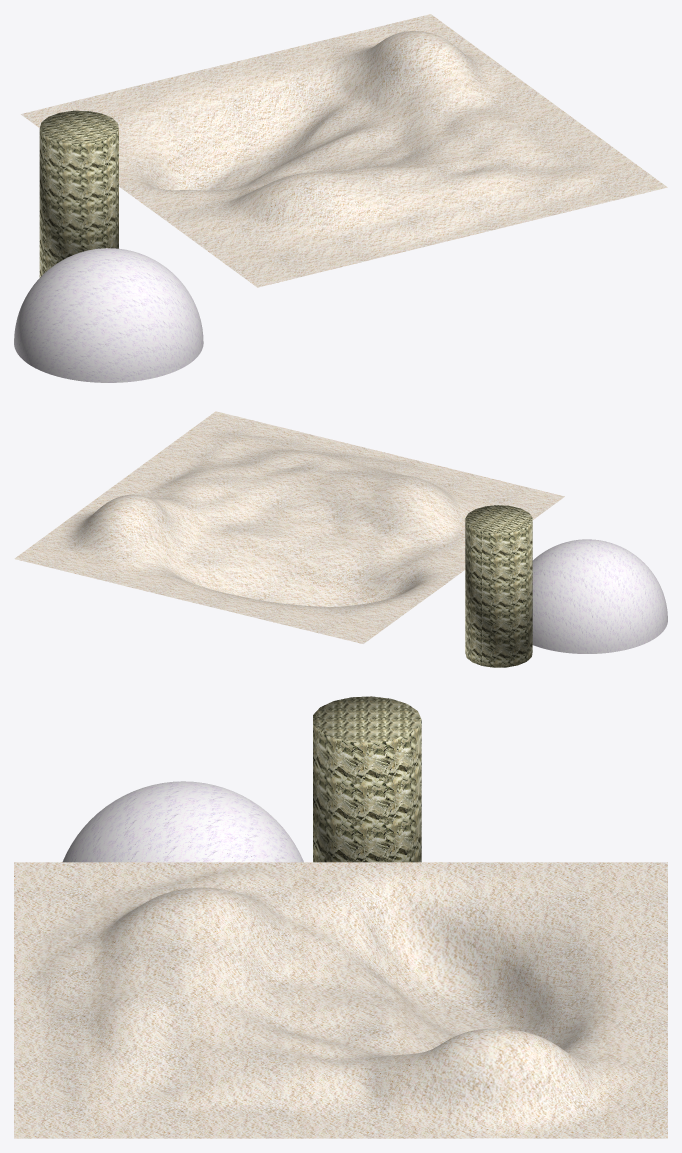
File: BeachTest.obj
3 renders of one model, top to bottom at view 1: azimuth 30°, elevation 25°; view 2: azimuth 150°, elevation 25°; view 3: azimuth 270°, elevation 25°, orthographic. The views are drawn at different scales.
Bounding box in the file's own units: 2825 × 734 × 2000.
Materials: 3 (3 with a texture image).
